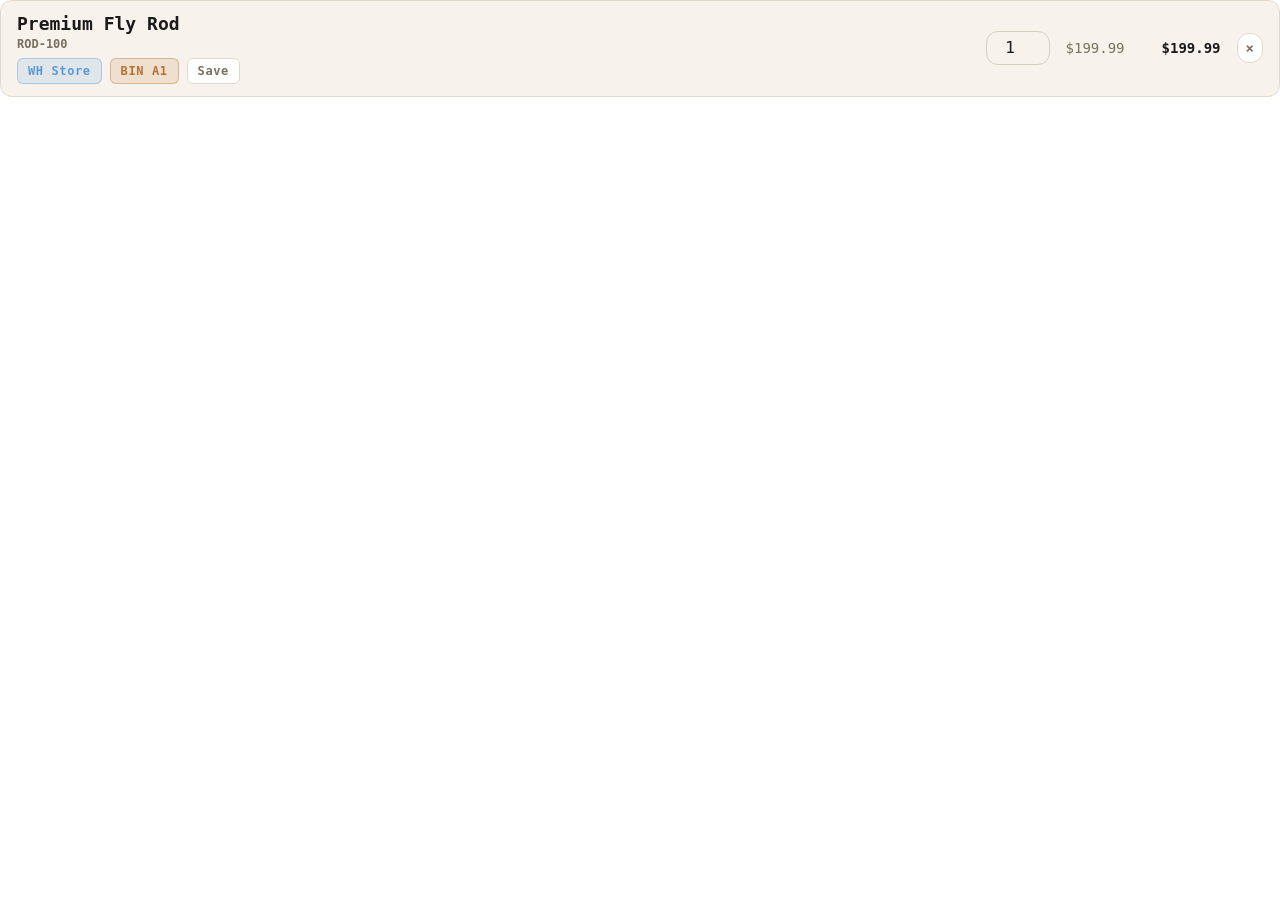
<Cart> › opens the WarehousePicker when the warehouse badge is clicked
This screenshot has width=1280, height=900.
Click the button with aria-label "change warehouse for rod-100" at (59, 70), box 17,58 -> 102,84
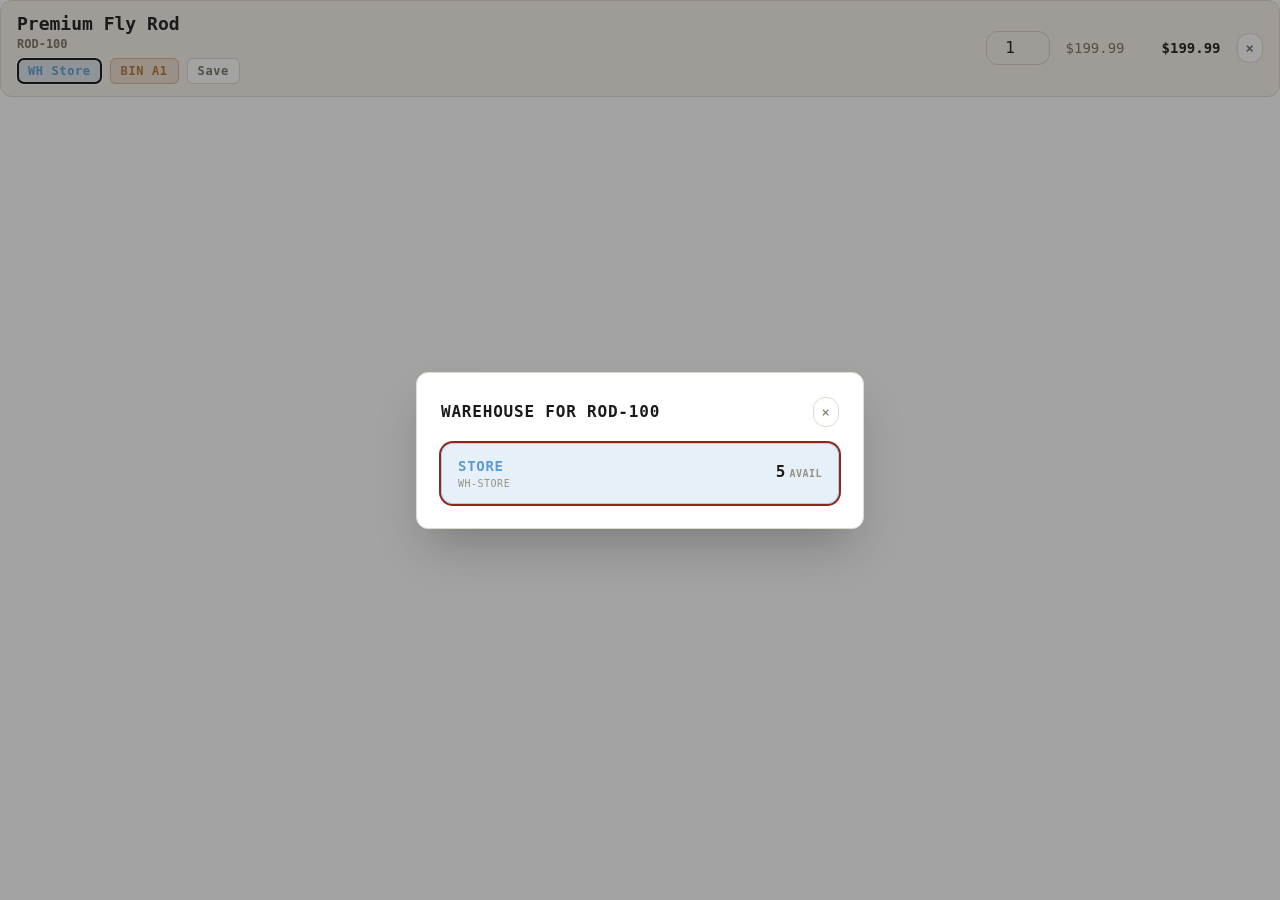
Result: the dialog "Warehouse for ROD-100 × Store WH-STORE 5avail" is shown
